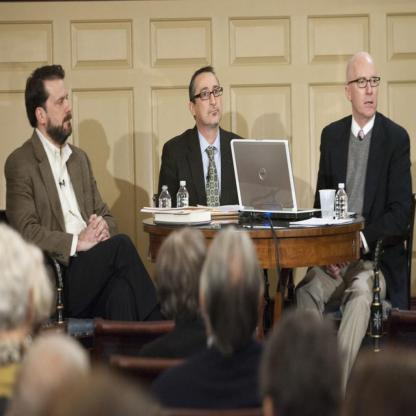board: (230, 142, 321, 223), (319, 188, 337, 218), (336, 184, 349, 220), (159, 184, 173, 206), (178, 180, 188, 206)
